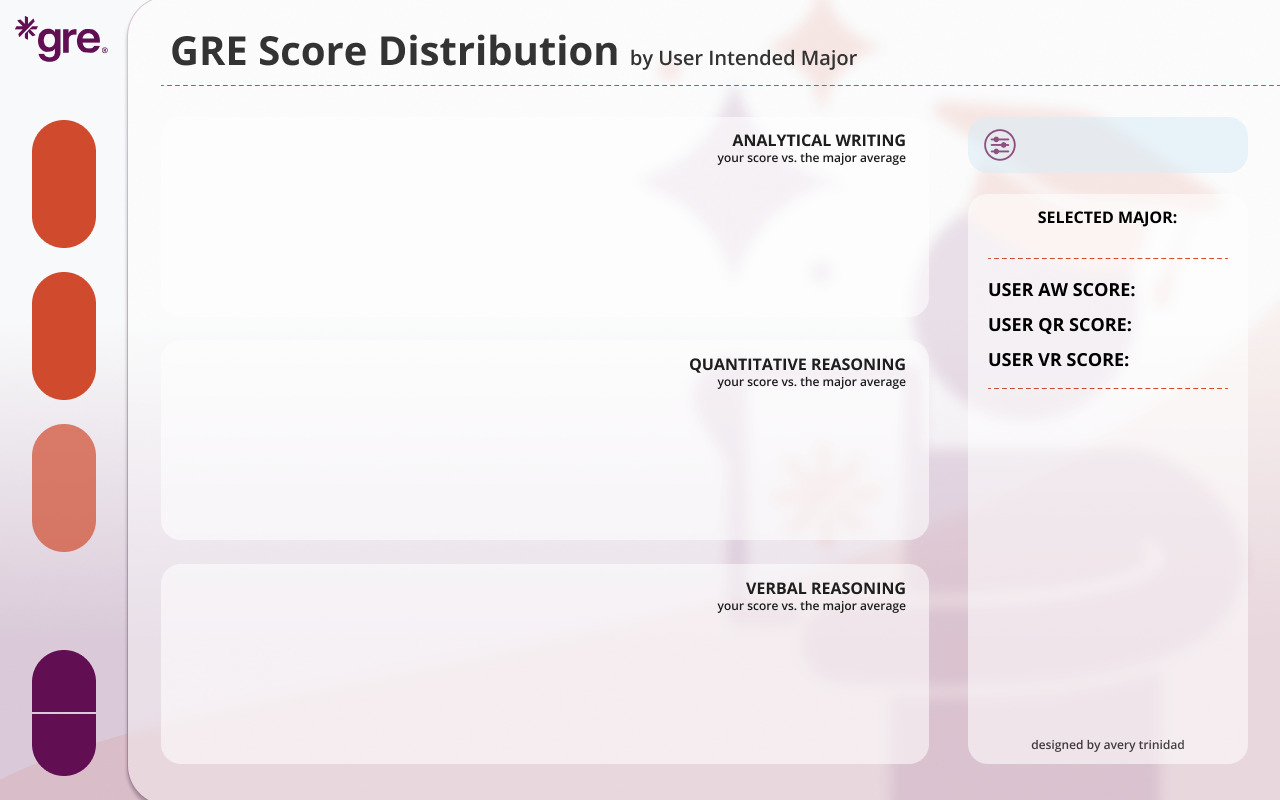

What the dashboard file says about the page in this screenshot:
{"tool":"tableau","page":{"name":"UserMajor","canvas":[1280,800],"ordinal":2},"visuals":[{"type":"image","param":"C:/Users/atrinidad/Documents/Code/Fun/September 2024/ETS GRE/Backgrounds/Screen ","box":[0,0,1280,800]},{"type":"blank","box":[489,125,426,621]},{"type":"worksheet","title":"AW1","mark":"Automatic","rows":["Intended Graduate Major"],"box":[178,133,288,168]},{"type":"parameter","param":"[Parameters].[Parameter 1]","box":[1034,134,201,23]},{"type":"dashboard-object","box":[39,144,48,80]},{"type":"worksheet","title":"KPI AW","mark":"Shape","rows":[" Mean"],"cols":["Calculation_1214001642730885161"],"box":[590,188,180,96]},{"type":"worksheet","title":"AW Difference","mark":"Shape","rows":["Calculation_1214001642729566244"],"cols":["Calculation_1449877651921772551"],"box":[750,188,180,96]},{"type":"text","box":[972,226,273,25]},{"type":"parameter","param":"[Parameters].[User_VR (copy)_1659295055803547649]","box":[1159,277,72,28]},{"type":"dashboard-object","box":[40,295,48,80]},{"type":"parameter","param":"[Parameters].[Parameter 2]","box":[1159,312,72,28]},{"type":"parameter","param":"[Parameters].[User_QR (copy)_1659295055803502592]","box":[1159,347,72,28]},{"type":"worksheet","title":"QR1","mark":"Automatic","rows":["Intended Graduate Major"],"box":[178,354,288,168]},{"type":"blank","box":[978,394,260,330]},{"type":"worksheet","title":"KPI UserCompos","mark":"Shape","rows":["Calculation_1659295055804362754"],"cols":["Calculation_1214001642729369633"],"box":[987,406,240,96]},{"type":"worksheet","title":"KPI QR","mark":"Shape","rows":[" Mean"],"cols":["Calculation_1214001642727338016"],"box":[590,410,180,96]},{"type":"worksheet","title":"QR Difference","mark":"Shape","rows":["Calculation_1214001642729566244"],"cols":["Calculation_1449877651925004304"],"box":[750,410,180,96]},{"type":"dashboard-object","box":[41,446,48,80]},{"type":"worksheet","title":"KPI MajorCompos","mark":"Shape","rows":["Calculation_1659295055804530691"],"cols":["Calculation_1214001642730643494"],"box":[987,510,240,96]},{"type":"worksheet","title":"VR1","mark":"Automatic","rows":["Intended Graduate Major"],"box":[178,579,288,168]},{"type":"worksheet","title":"KPI Difference","mark":"Shape","rows":["Calculation_1214001642729566244"],"cols":["Calculation_1214001642730090533"],"box":[987,614,240,96]},{"type":"worksheet","title":"KPI VR","mark":"Shape","rows":[" Mean"],"cols":["Calculation_1214001642726621212"],"box":[590,632,180,96]},{"type":"worksheet","title":"VR Difference","mark":"Shape","rows":["Calculation_1214001642729566244"],"cols":["Calculation_1449877651925344273"],"box":[750,632,180,96]},{"type":"dashboard-object","box":[44,657,36,54]},{"type":"worksheet","title":"InfoBox","mark":"Shape","cols":["Calculation_1643813929597435905"],"box":[32,707,64,74]}]}

Visuals, with their boxes in screenshot pixels (x1, y1, x2, y2), scaled from the page's 1280x800 canvas onto the 1280x800 screenshot:
image: detection(0, 0, 1279, 799)
blank: detection(489, 125, 915, 746)
"AW1" worksheet: detection(178, 133, 466, 301)
parameter: detection(1034, 134, 1235, 157)
dashboard-object: detection(39, 144, 87, 224)
"KPI AW" worksheet (Shape marks): detection(590, 188, 770, 284)
"AW Difference" worksheet (Shape marks): detection(750, 188, 930, 284)
text: detection(972, 226, 1245, 251)
parameter: detection(1159, 277, 1231, 305)
dashboard-object: detection(40, 295, 88, 375)
parameter: detection(1159, 312, 1231, 340)
parameter: detection(1159, 347, 1231, 375)
"QR1" worksheet: detection(178, 354, 466, 522)
blank: detection(978, 394, 1238, 724)
"KPI UserCompos" worksheet (Shape marks): detection(987, 406, 1227, 502)
"KPI QR" worksheet (Shape marks): detection(590, 410, 770, 506)
"QR Difference" worksheet (Shape marks): detection(750, 410, 930, 506)
dashboard-object: detection(41, 446, 89, 526)
"KPI MajorCompos" worksheet (Shape marks): detection(987, 510, 1227, 606)
"VR1" worksheet: detection(178, 579, 466, 747)
"KPI Difference" worksheet (Shape marks): detection(987, 614, 1227, 710)
"KPI VR" worksheet (Shape marks): detection(590, 632, 770, 728)
"VR Difference" worksheet (Shape marks): detection(750, 632, 930, 728)
dashboard-object: detection(44, 657, 80, 711)
"InfoBox" worksheet (Shape marks): detection(32, 707, 96, 781)
